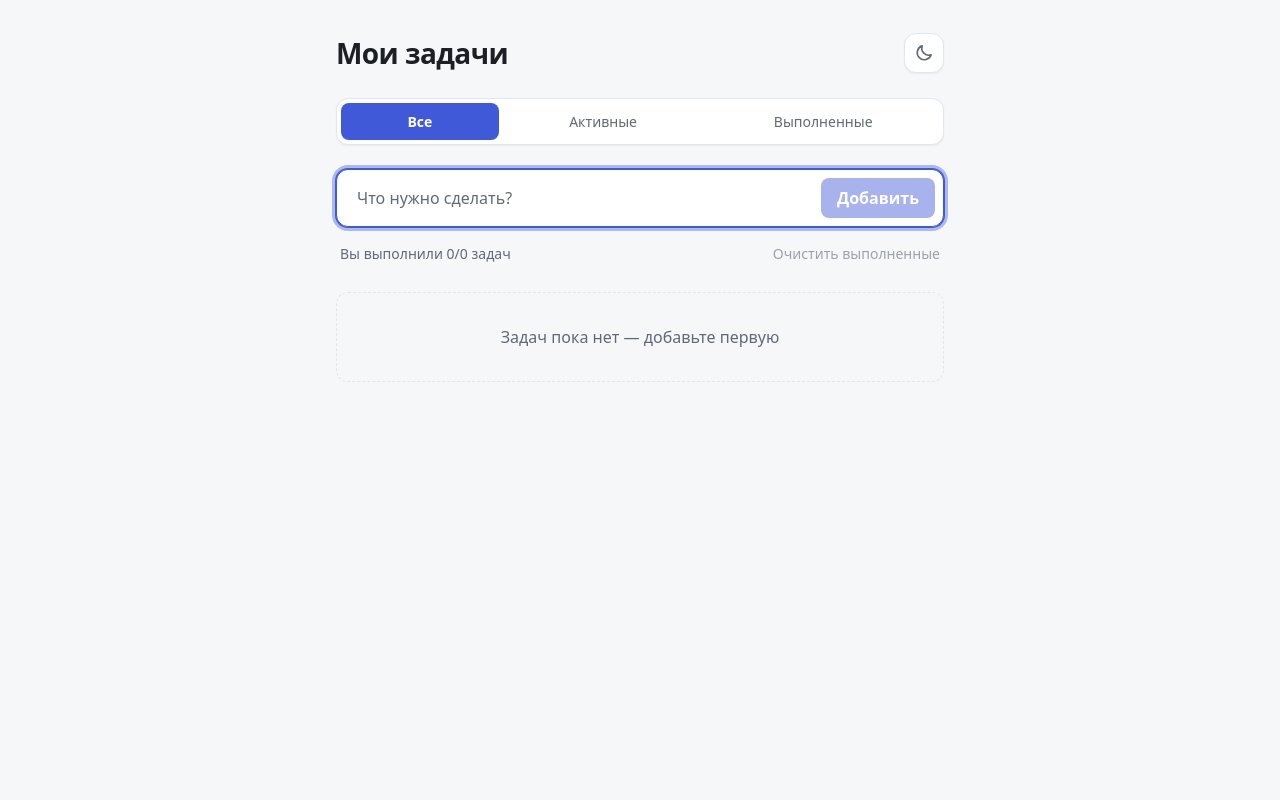
Test: App: theme toggle › switches the theme from the header button and remembers it
Click the button named "Включить тёмную тему". click: (924, 53)
box: [904,33,944,73]
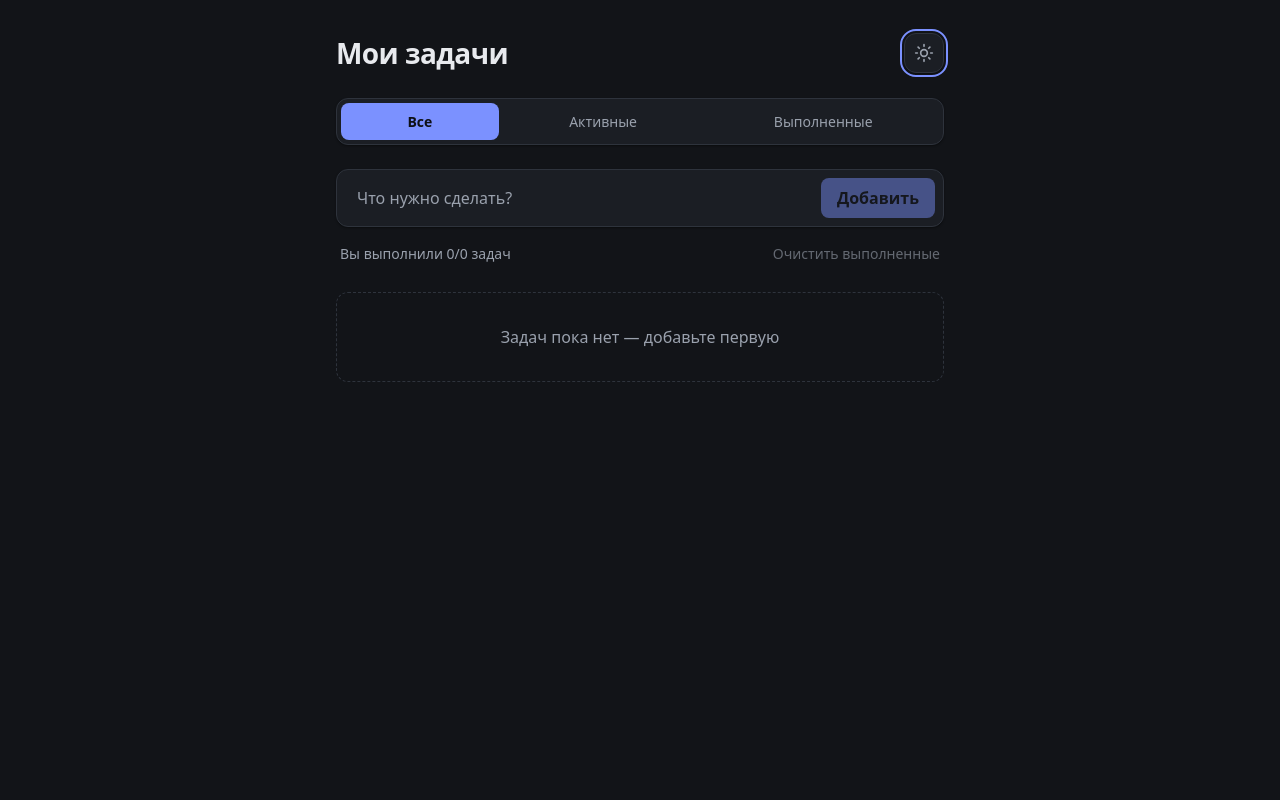
Now the button named "Включить светлую тему" is shown, box [904,33,944,73]
